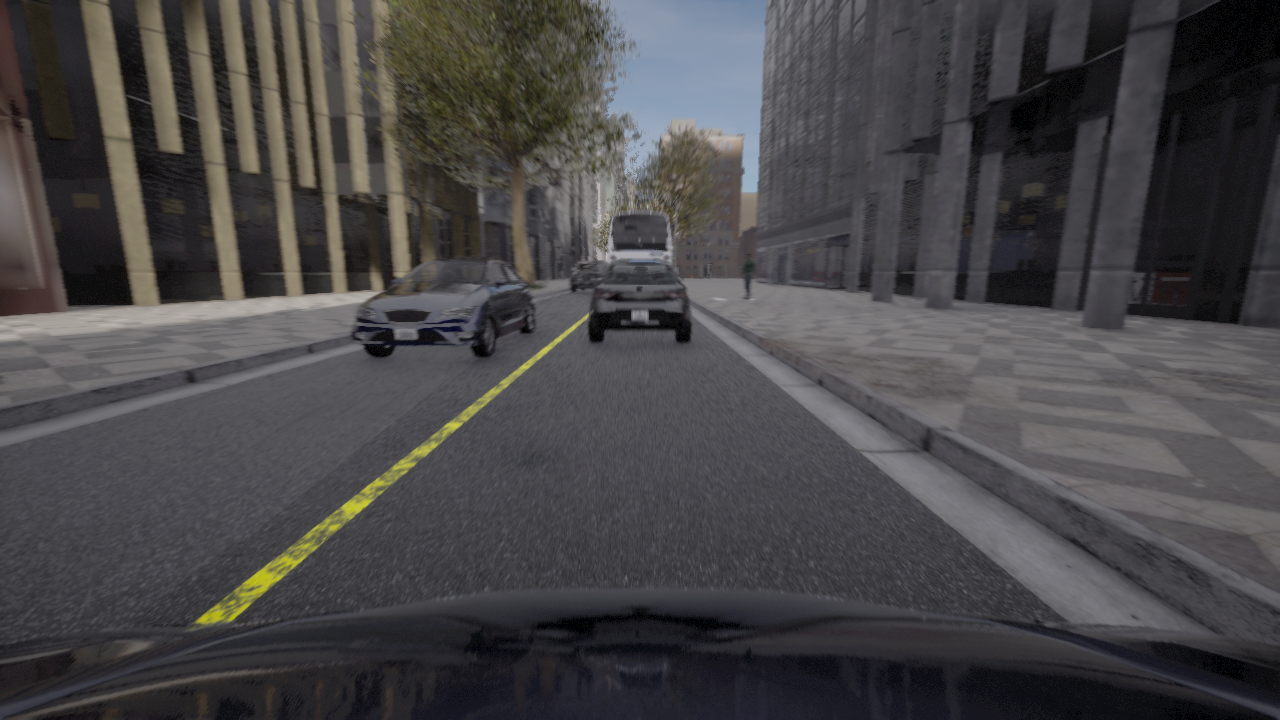cyclist: (0, 588, 1279, 719), (350, 258, 534, 357), (589, 259, 690, 342), (608, 211, 671, 267), (570, 261, 607, 292)
pedestrian: (742, 253, 756, 299)
